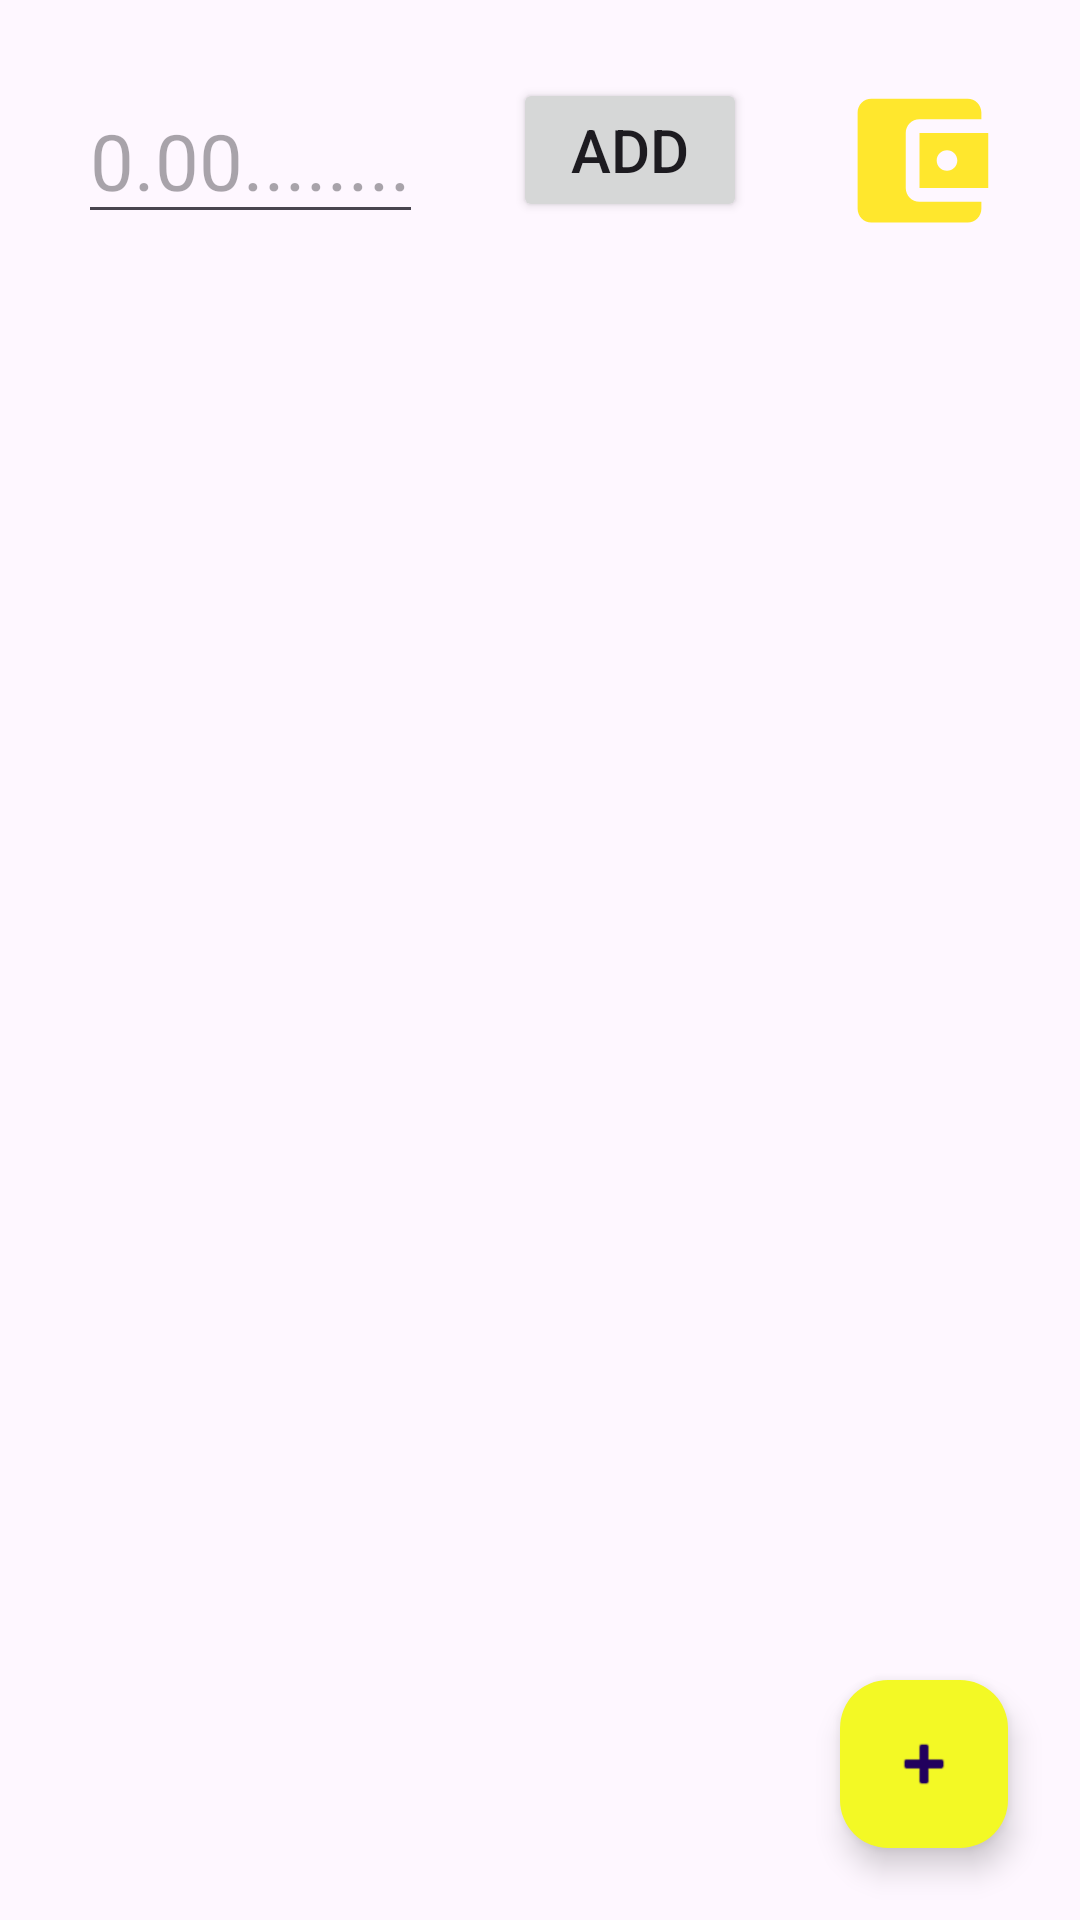

Locate icon controls on the screen. Image size 1080px×1920px, boxes as detection(x1, y1, x2, y2).
account balance wallet: detection(857, 98, 989, 223)
Add: detection(840, 1680, 1008, 1848)
